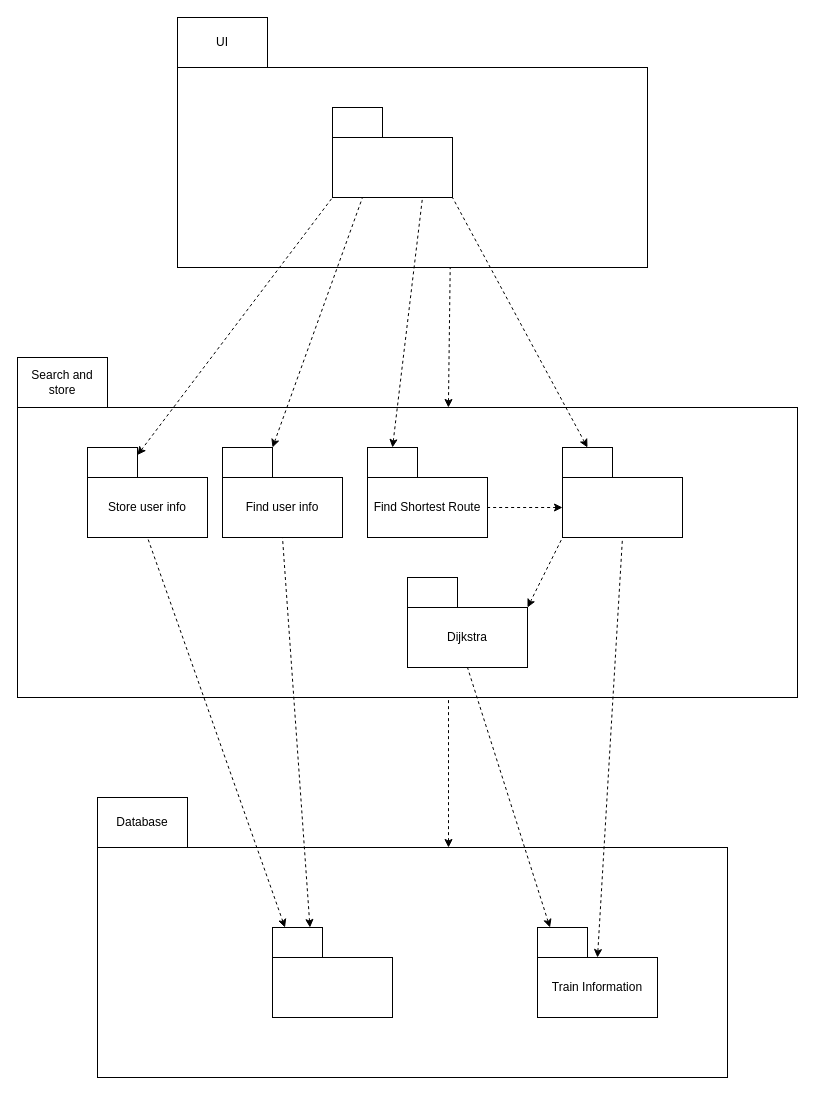
Image size: 815x1095. Some labels were removed from this diagram. The shapes that lost their labels are listed below. From the top down, each one's centre as x and y in pixels, then its label:
At (x=392, y=167): "Website".
At (x=622, y=507): "search route".
At (x=332, y=987): "User Information".
